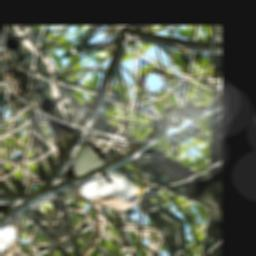Cuckoo: (14, 57, 159, 230)
